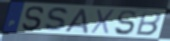A: (63, 8, 90, 35)
B: (134, 11, 162, 37)
S: (43, 7, 71, 33), (21, 5, 46, 32), (113, 9, 137, 37)
X: (89, 9, 117, 36)
